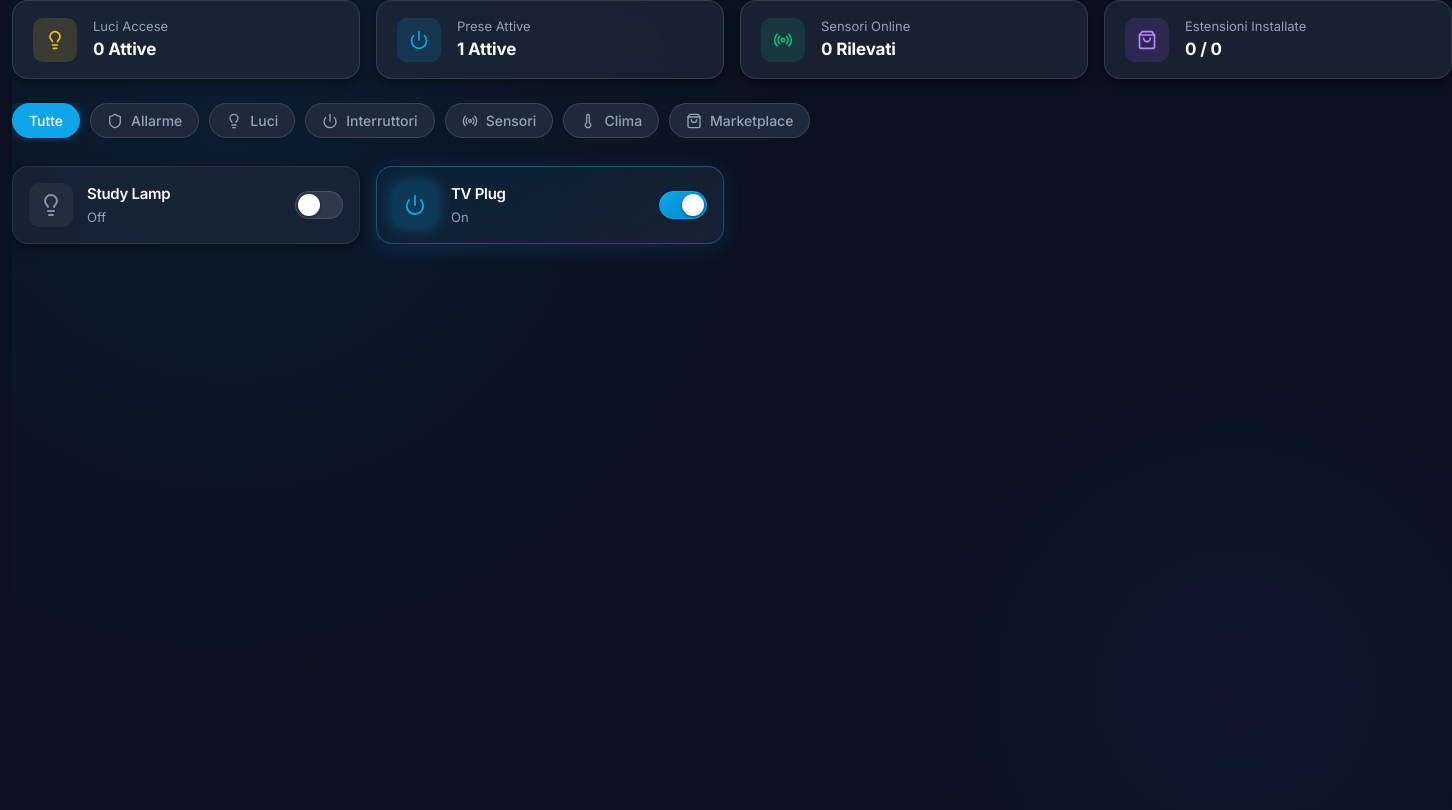
Test case: DashboardView.vue › filters entities when domain filter pill is clicked
Click the tab with class "filter-pill" showing "Interruttori" at (370, 120), box [305,103,435,138]
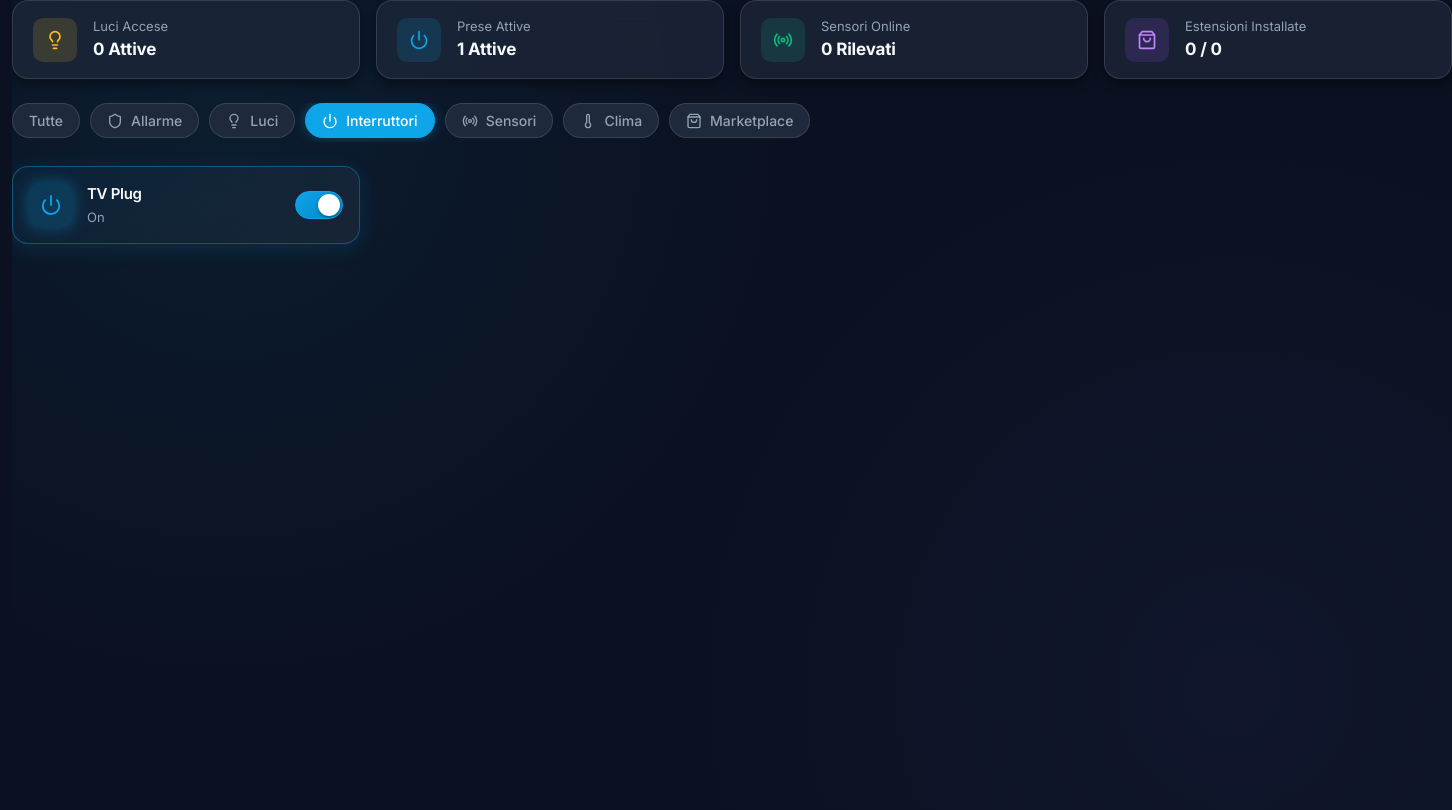
Expected: the text "TV Plug" is shown, [87,184,142,203]
Expected: the text "Study Lamp" is gone
